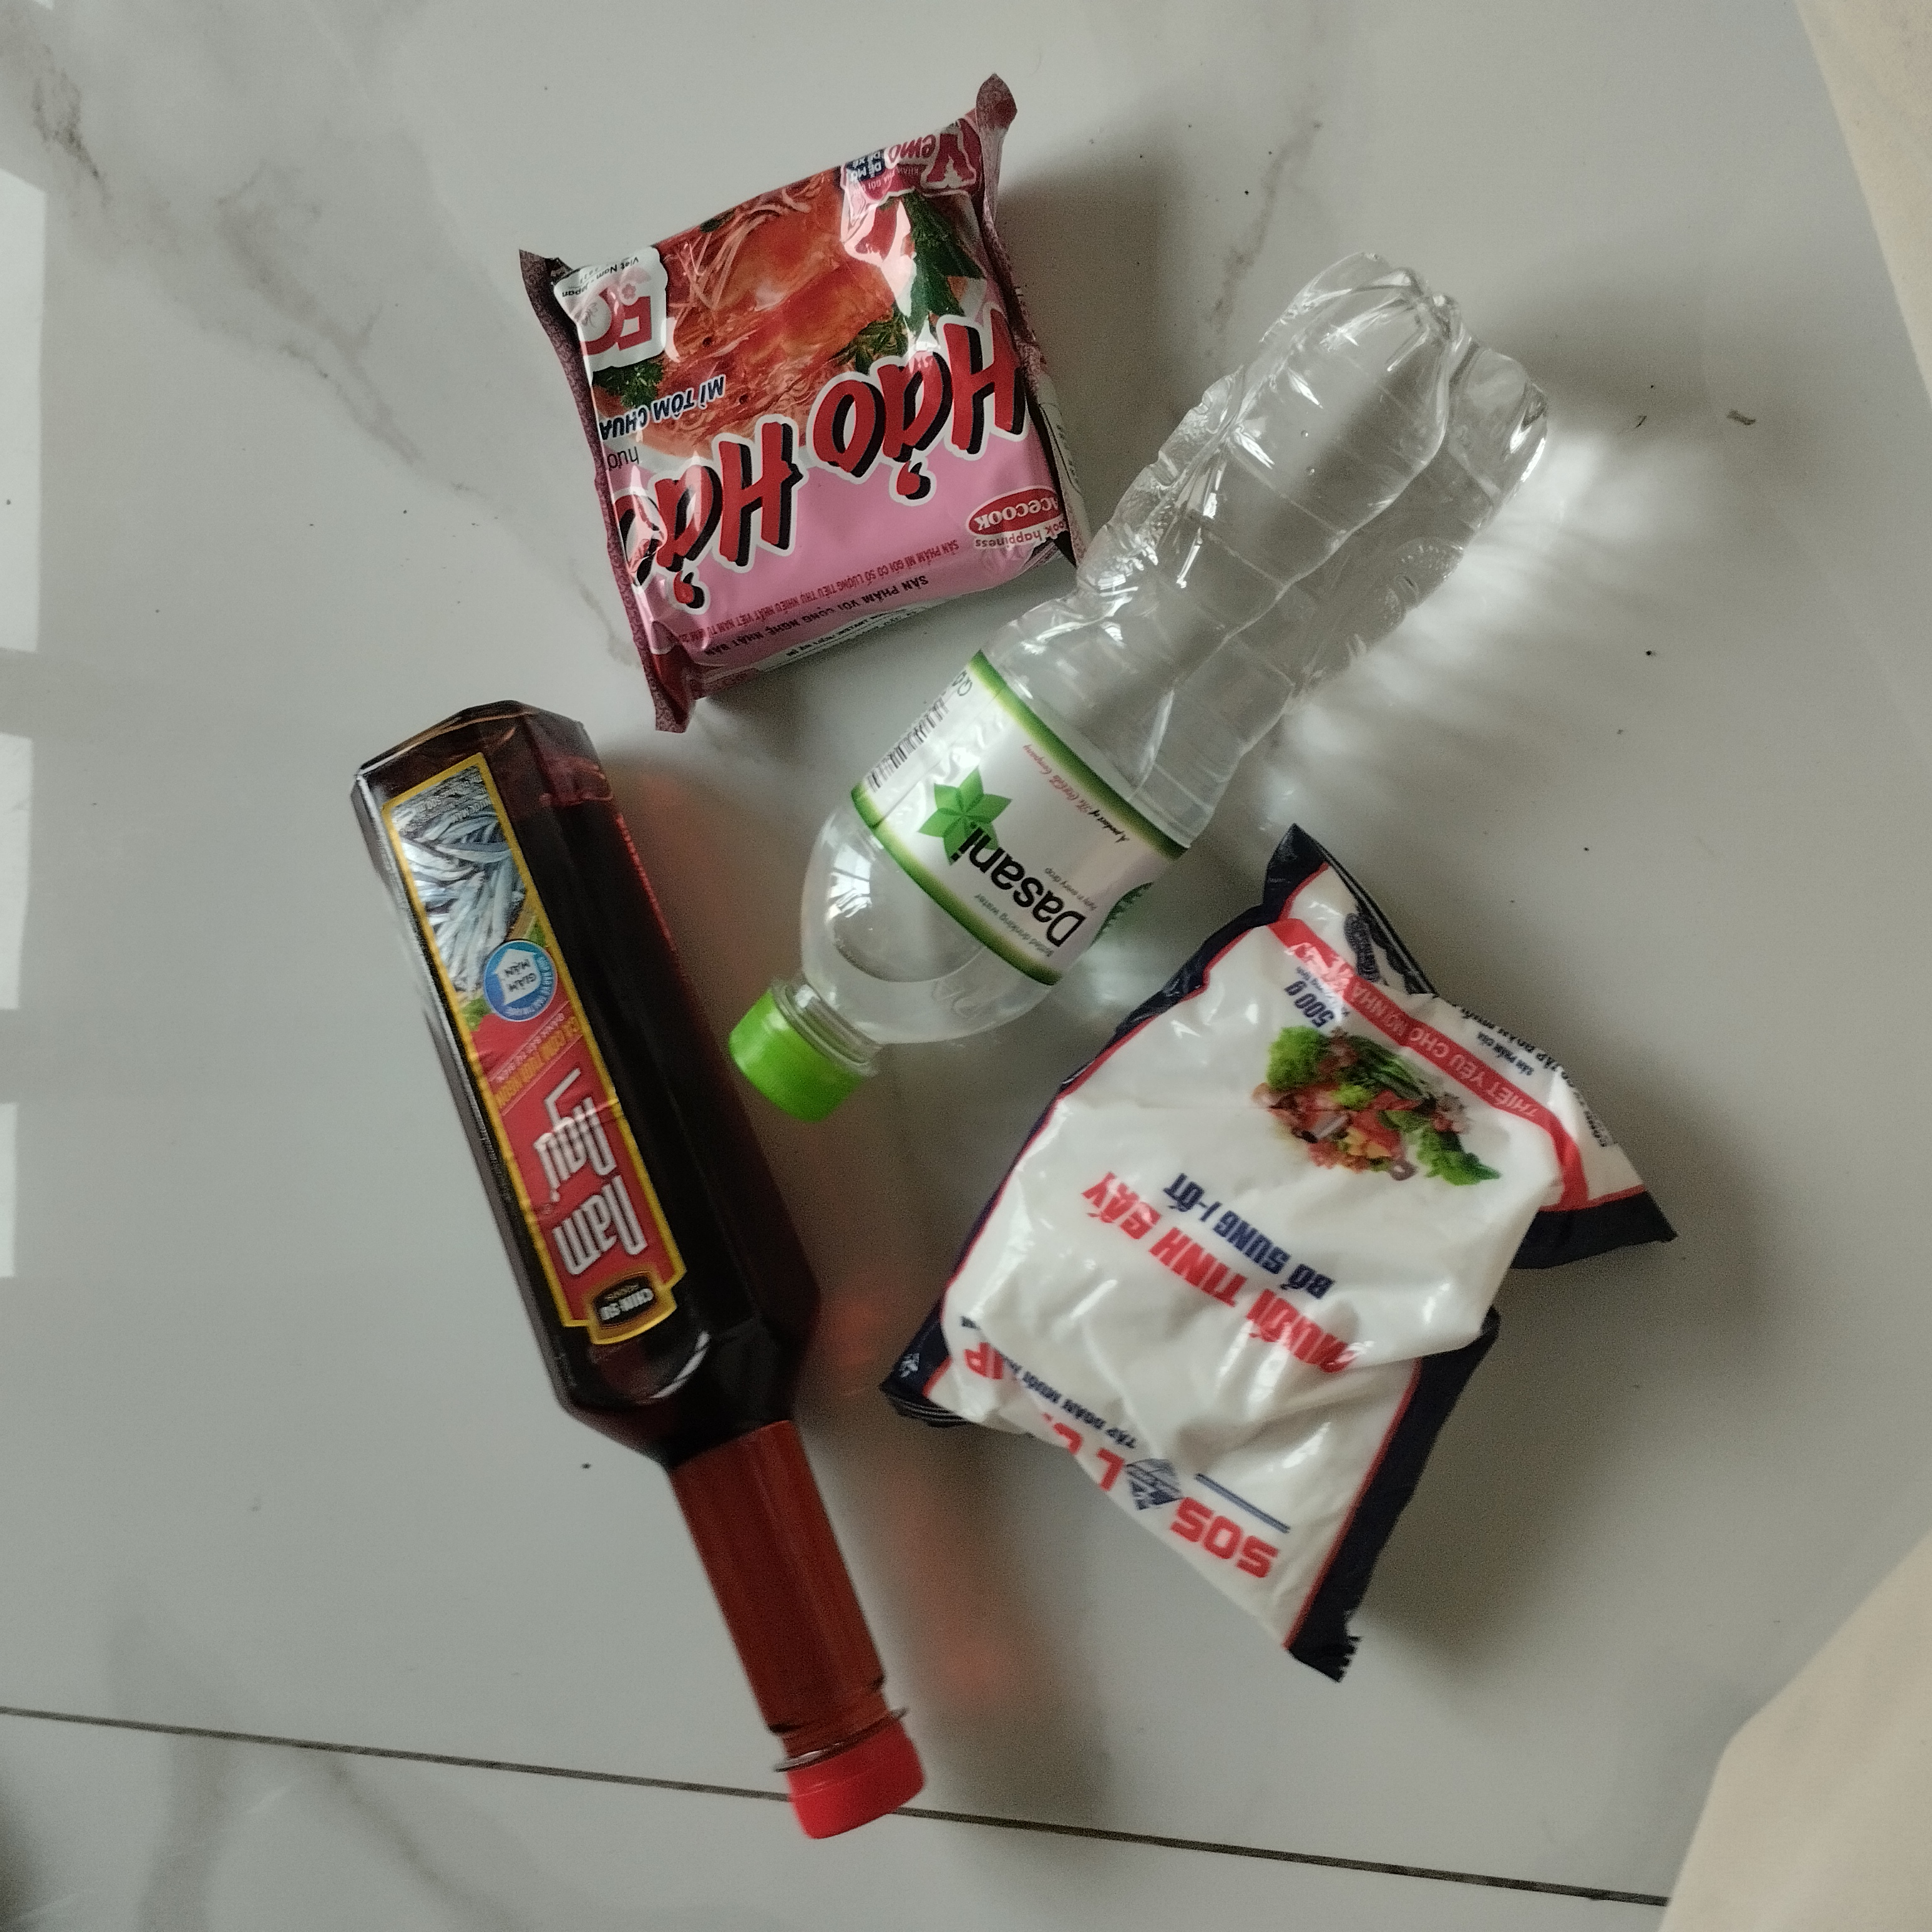Dasani: (717, 248, 1553, 1125)
Haohao: (522, 80, 1100, 729)
Namngu: (343, 702, 936, 1847)
Salt: (862, 824, 1691, 1693)
